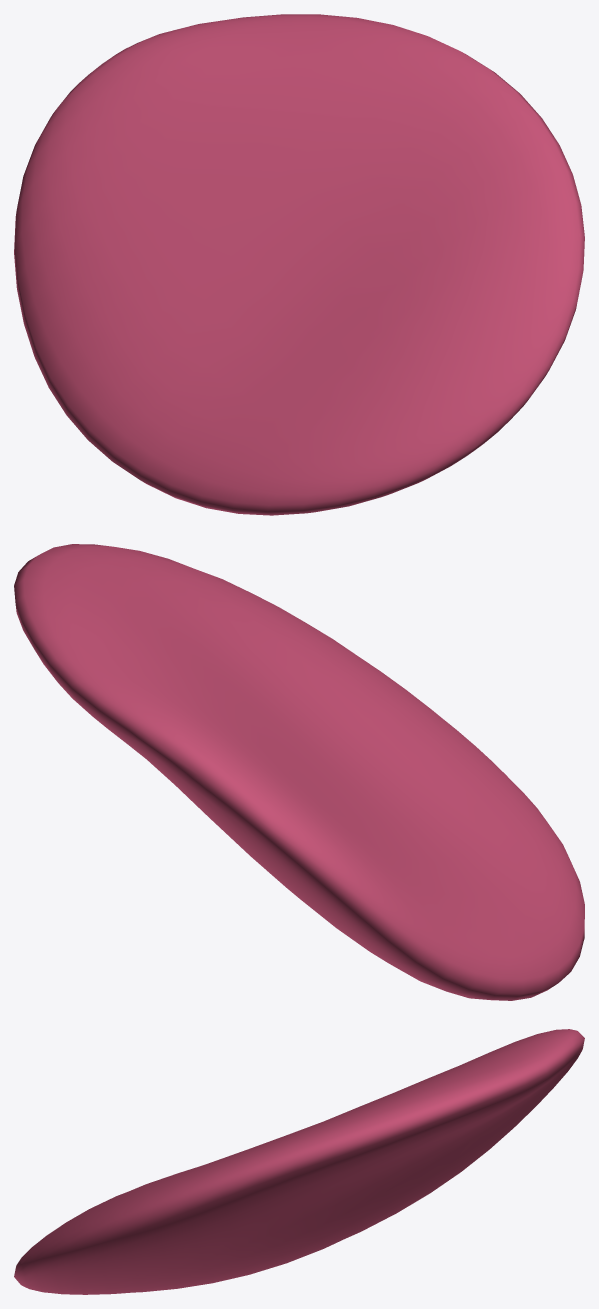
3 renders of one model, top to bottom at view 1: azimuth 30°, elevation 25°; view 2: azimuth 150°, elevation 25°; view 3: azimuth 270°, elevation 25°, orthographic. The views are drawn at different scales.
Parts seen in each view (by area): view 1: 右侧喙肱囊; view 2: 右侧喙肱囊; view 3: 右侧喙肱囊.
Part boxes in pixels (x1,y1,x2,y2): 右侧喙肱囊: (14,14,584,515); 右侧喙肱囊: (14,544,584,1000); 右侧喙肱囊: (14,1029,584,1294).
Bounding box in the file's own units: 0.0282 × 0.0196 × 0.0324.
